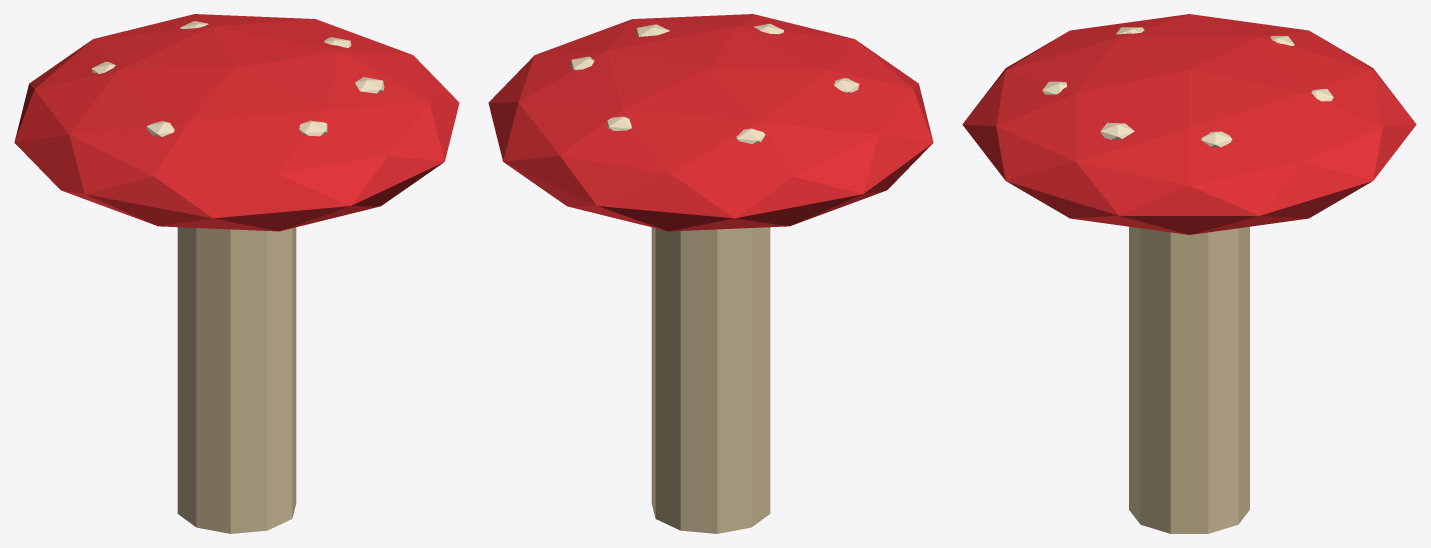
Rendered from SM_GiantMushroom_A.glb.
3 views of the same model, side by side, from view 1: azimuth 30°, elevation 25°; view 2: azimuth 150°, elevation 25°; view 3: azimuth 270°, elevation 25° (orthographic).
Visible parts, largest first — view 1: SM_GiantMushroom_A; view 2: SM_GiantMushroom_A; view 3: SM_GiantMushroom_A.
Part boxes in pixels (left/top/right/bottom): SM_GiantMushroom_A: left=14, top=14, right=459, bottom=533; SM_GiantMushroom_A: left=488, top=14, right=933, bottom=533; SM_GiantMushroom_A: left=962, top=14, right=1416, bottom=533.
Size of the model in its own units: 5.14 by 5.77 by 5.4.
